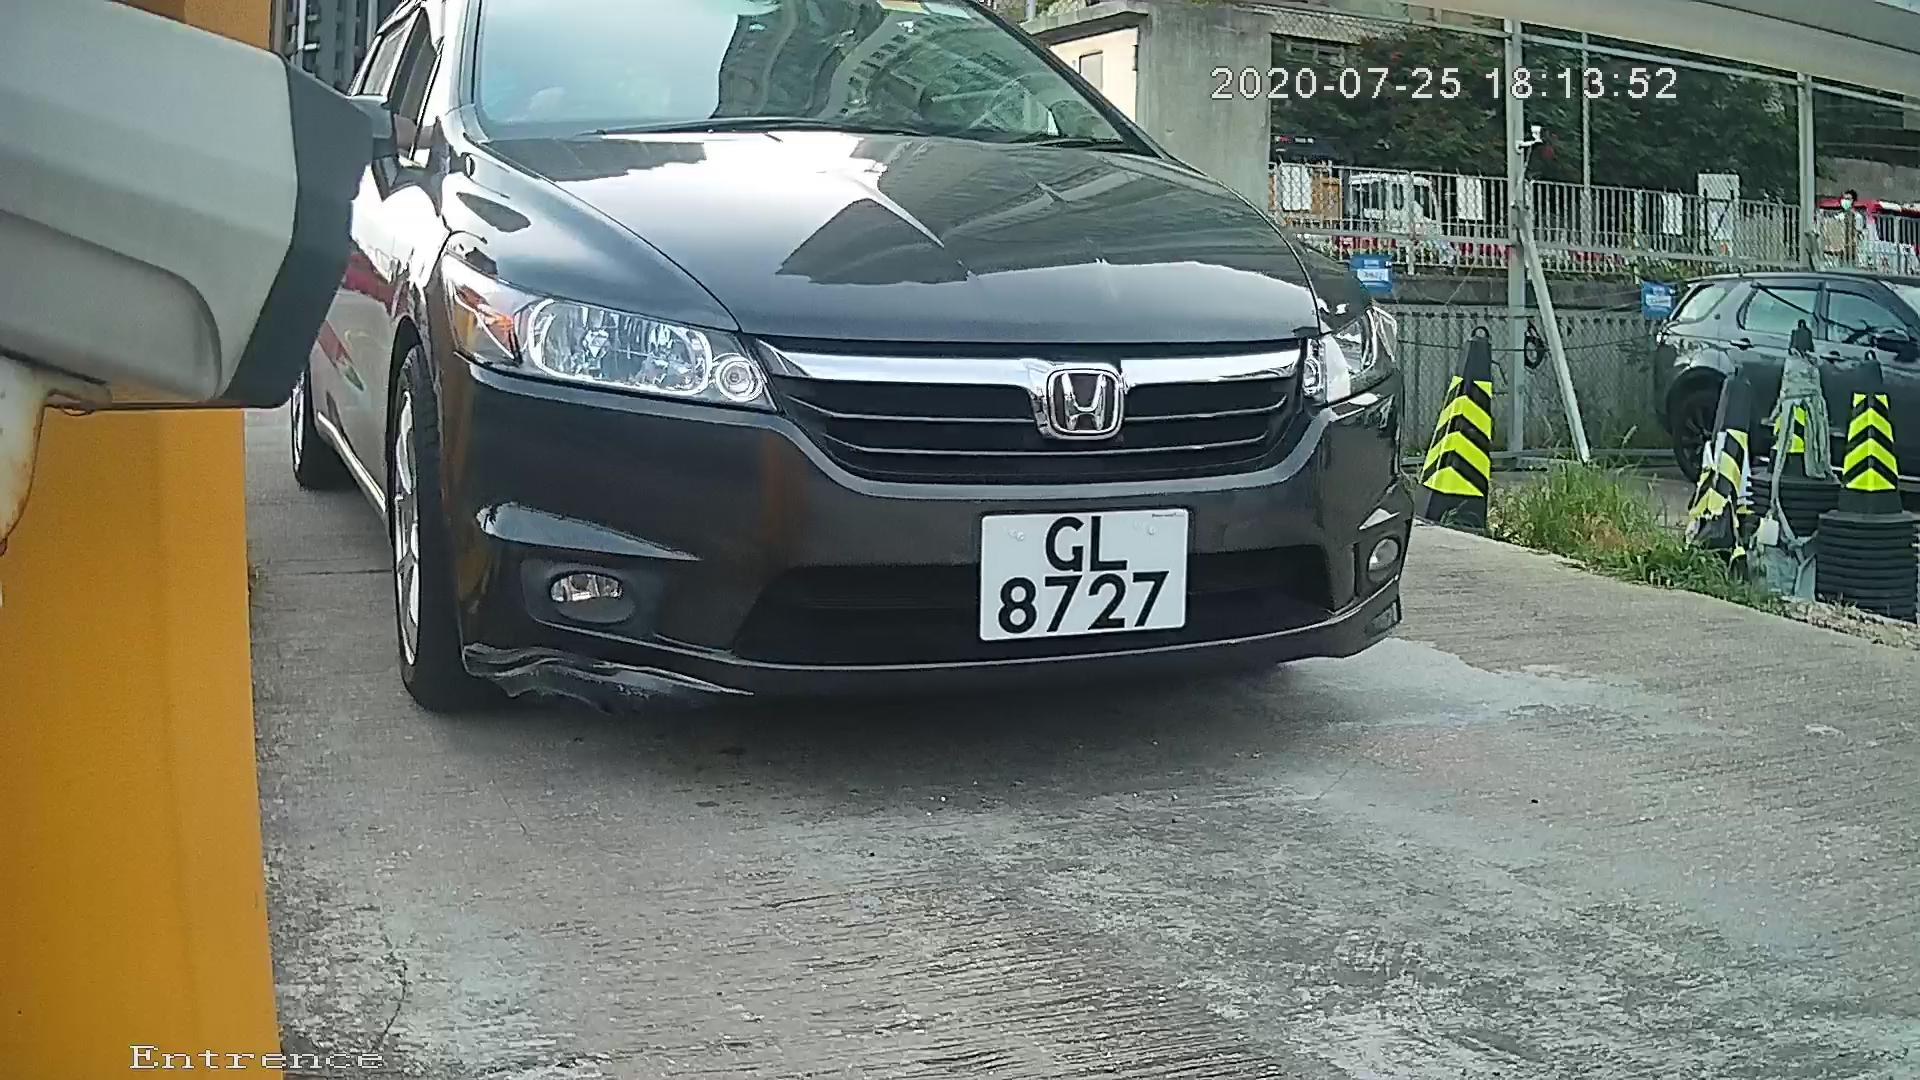License Plate: (943, 497, 1201, 656)
